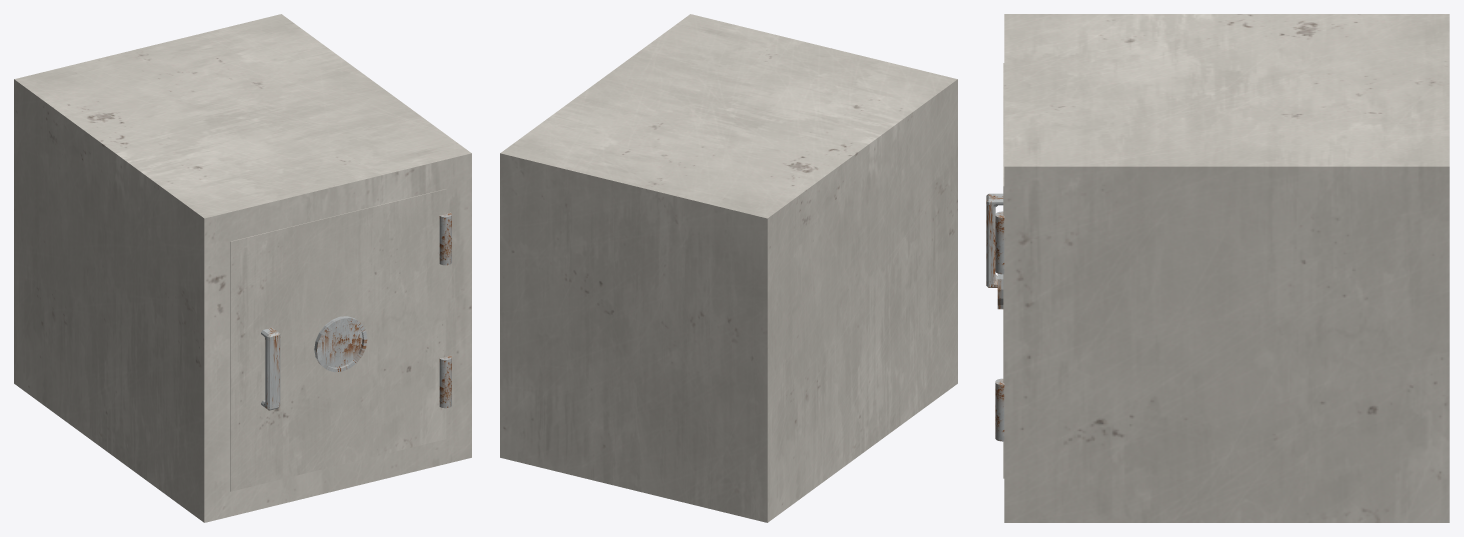
Rendered from cofreaa.fbx.
3 views of the same model, side by side, from view 1: azimuth 30°, elevation 25°; view 2: azimuth 150°, elevation 25°; view 3: azimuth 270°, elevation 25° (orthographic). The views are drawn at different scales.
Visible parts, largest first — view 1: pCube1, pCube2, pCylinder3, pCube4, pCylinder1, pCylinder2; view 2: pCube1; view 3: pCube1, pCube4, pCylinder1, pCylinder2, pCube2.
Boxes of the visible parts, box(x1,y1,x2,y2) form: pCube1: box(14, 14, 471, 522); pCube2: box(230, 189, 446, 491); pCylinder3: box(314, 316, 367, 372); pCube4: box(261, 328, 280, 410); pCylinder1: box(439, 212, 451, 265); pCylinder2: box(439, 355, 451, 408); pCube1: box(500, 14, 957, 522); pCube1: box(1004, 14, 1449, 522); pCube4: box(986, 193, 1003, 287); pCylinder1: box(995, 211, 1004, 274); pCylinder2: box(995, 378, 1004, 441); pCube2: box(1003, 63, 1004, 478).
Bounding box in the file's own units: 1.05 × 1.14 × 1.34.
